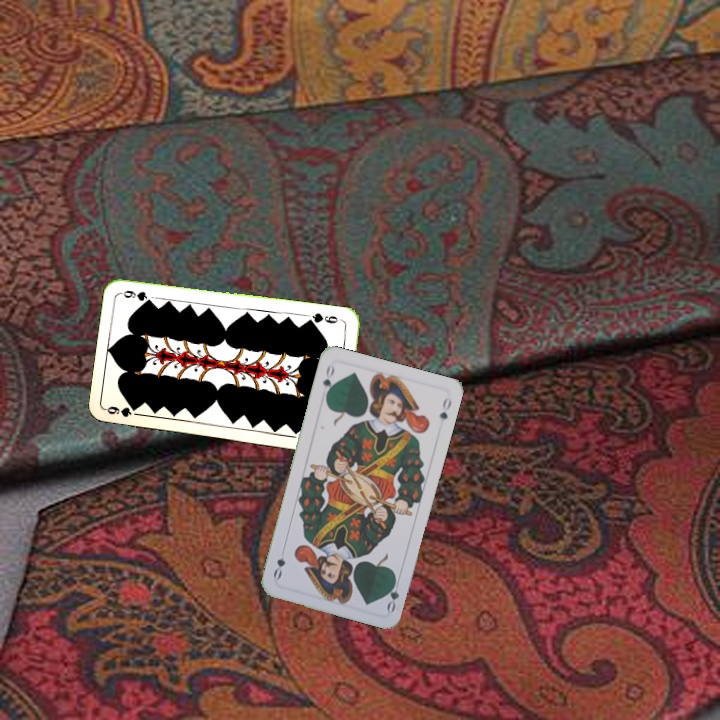G9: (304, 309, 345, 326), (103, 402, 139, 420)
GO: (383, 573, 403, 614), (318, 361, 337, 401)
